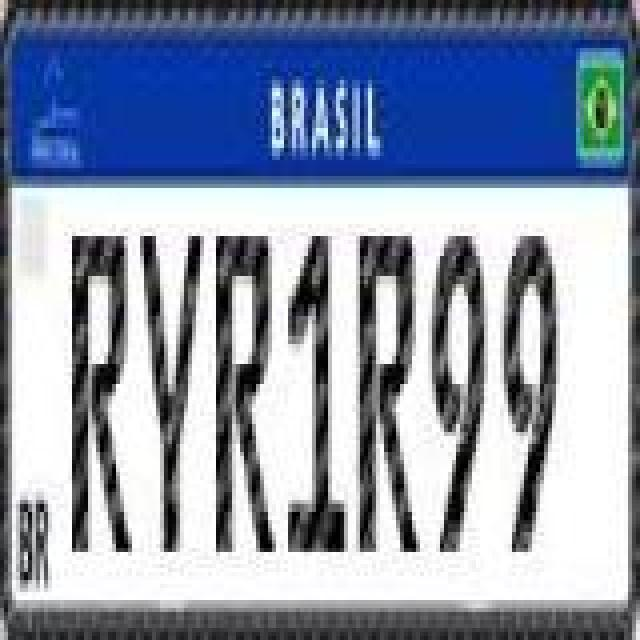1: (284, 230, 348, 554)
9: (496, 224, 560, 560), (424, 230, 488, 554)
R: (72, 230, 136, 554), (216, 230, 280, 554), (356, 230, 420, 554)
Y: (134, 230, 202, 554)
